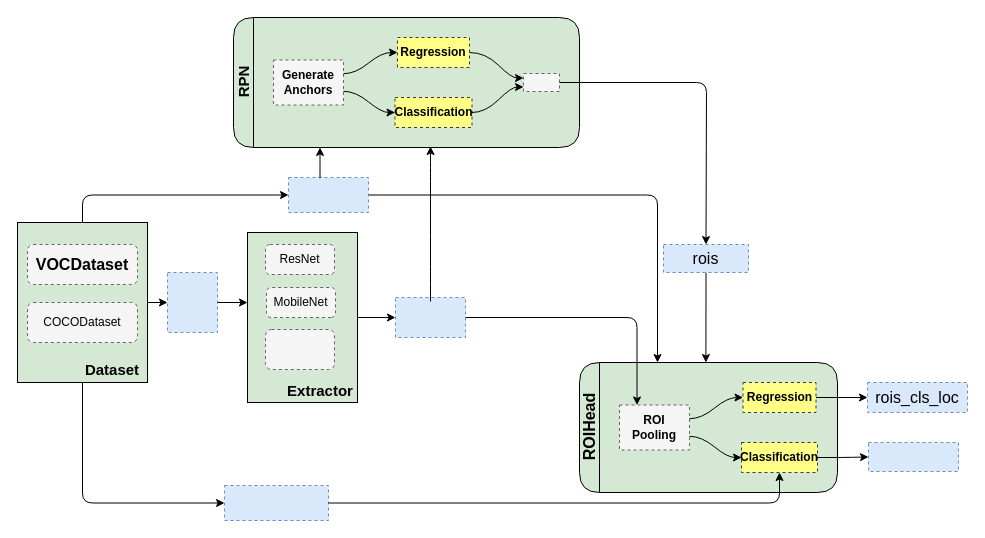
This 985x538 diagram has some shape labels left out. The centre of each missing label's shape, as x and y in pixels:
BBox: pixel 328 194
feature: pixel 430 317
img: pixel 192 302
label: pixel 276 502
NMS: pixel 541 82
roi_scores: pixel 913 457
VGG16: pixel 299 349
